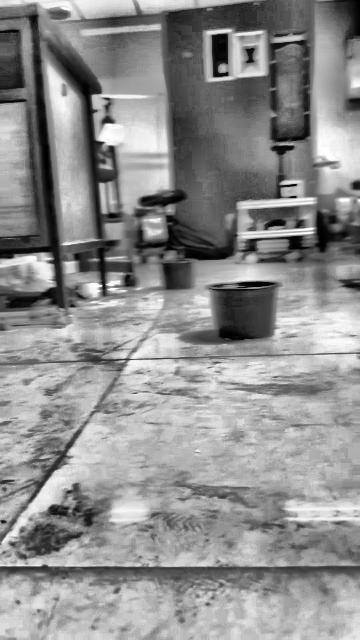pot: (207, 281, 280, 340), (160, 259, 194, 288)
